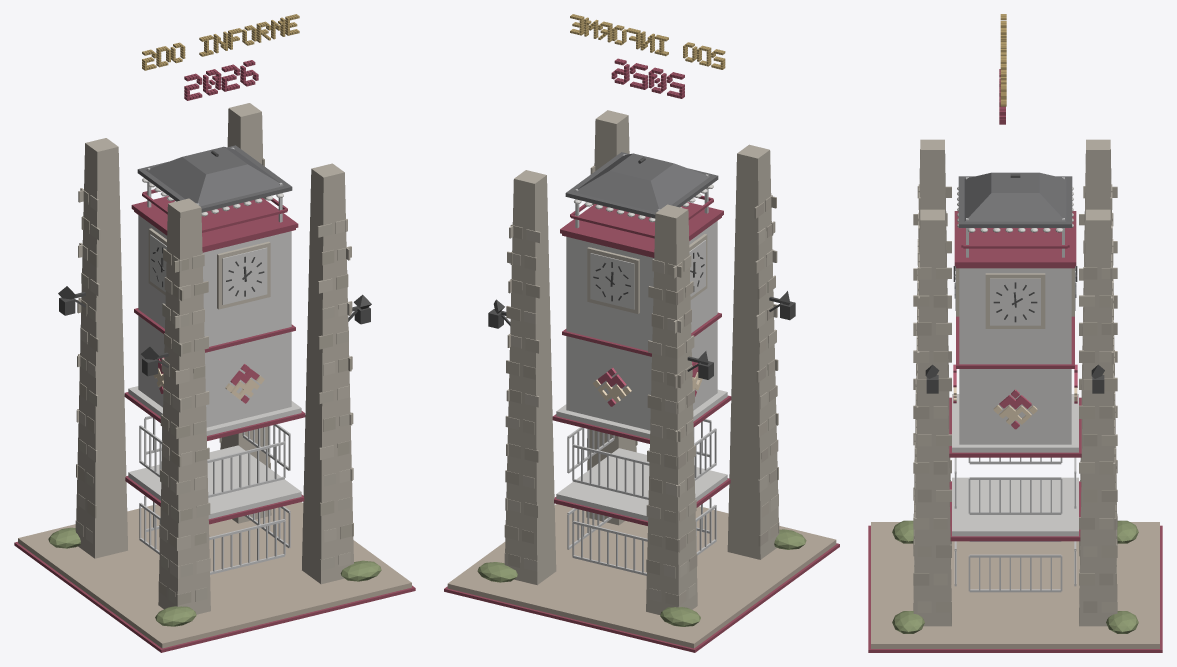
The model's file is reloj_monumento_ar_v7.glb.
The picture shows the model from 3 angles, left to right: view 1: azimuth 30°, elevation 25°; view 2: azimuth 150°, elevation 25°; view 3: azimuth 270°, elevation 25°; orthographic projection.
Parts seen in each view (by area): view 1: reloj_monumento; view 2: reloj_monumento; view 3: reloj_monumento.
Boxes of the visible parts, x1,y1,x2,y2 form: reloj_monumento: (14, 14, 415, 652); reloj_monumento: (444, 14, 839, 652); reloj_monumento: (868, 14, 1162, 652).
Bounding box in the file's own units: 1.16 × 2.35 × 1.16.
